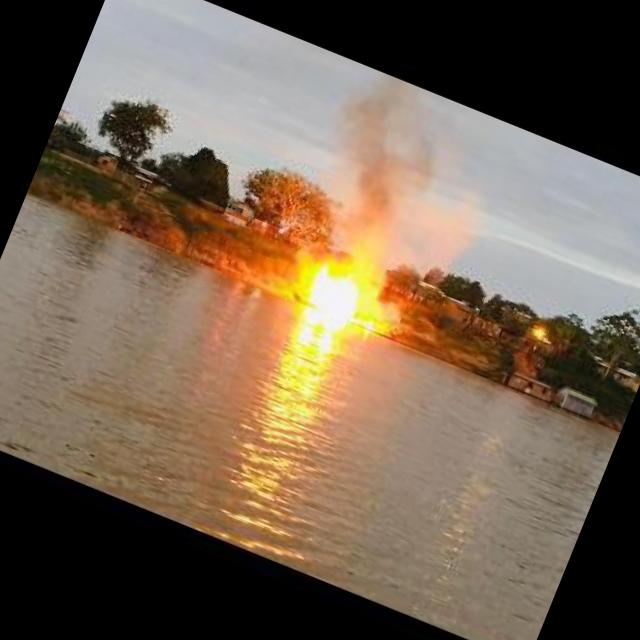fire: (296, 254, 399, 336)
smoke: (291, 76, 470, 280)
